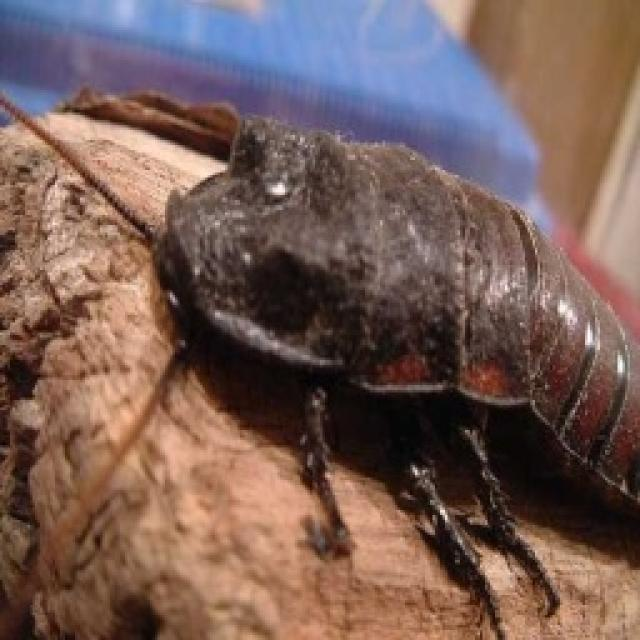cockroach: (116, 48, 640, 565)
